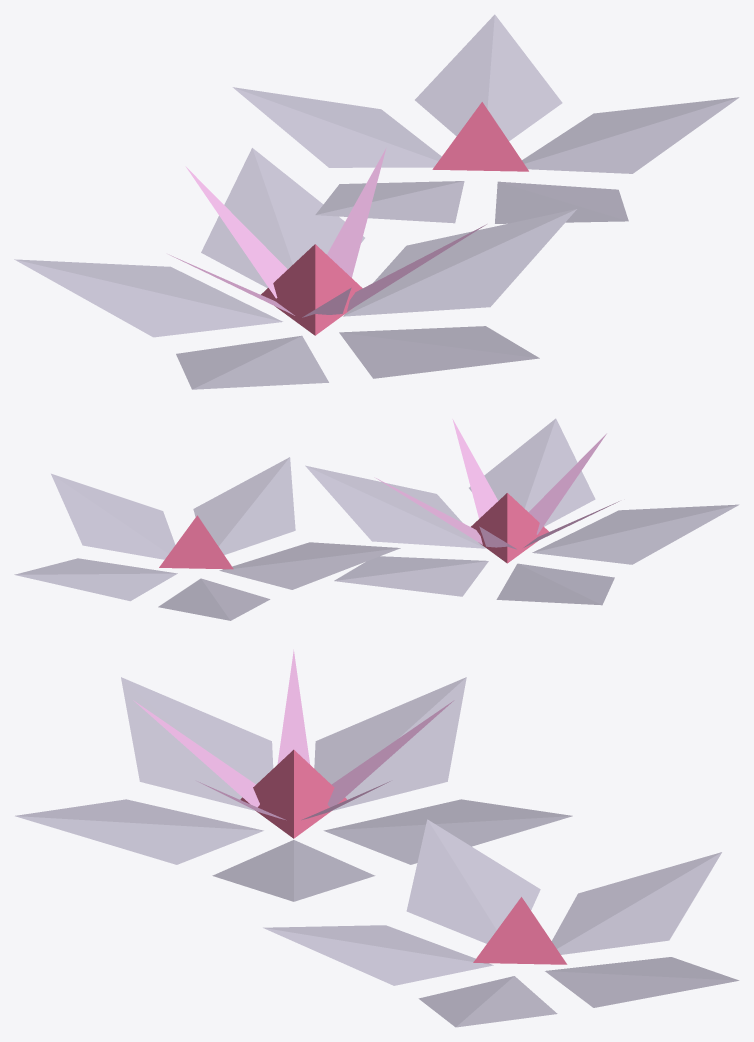
The model's file is plant_lotus_b.obj.
3 views of the same model, one above another, from view 1: azimuth 30°, elevation 25°; view 2: azimuth 150°, elevation 25°; view 3: azimuth 270°, elevation 25° (orthographic). The views are drawn at different scales.
Parts seen in each view (by area): view 1: plant_lotus_b_0, plant_lotus_b_5, plant_lotus_b_19, plant_lotus_b_24, plant_lotus_b_16, plant_lotus_b_3, plant_lotus_b_17, plant_lotus_b_8, plant_lotus_b_15, plant_lotus_b_1, plant_lotus_b_2, plant_lotus_b_4 (+13 smaller); view 2: plant_lotus_b_1, plant_lotus_b_6, plant_lotus_b_22, plant_lotus_b_25, plant_lotus_b_8, plant_lotus_b_20, plant_lotus_b_3, plant_lotus_b_15, plant_lotus_b_23, plant_lotus_b_0, plant_lotus_b_9, plant_lotus_b_24 (+13 smaller); view 3: plant_lotus_b_7, plant_lotus_b_4, plant_lotus_b_18, plant_lotus_b_21, plant_lotus_b_9, plant_lotus_b_5, plant_lotus_b_6, plant_lotus_b_23, plant_lotus_b_15, plant_lotus_b_2, plant_lotus_b_19, plant_lotus_b_20 (+13 smaller).
Part boxes in pixels (left/top/right/bottom): plant_lotus_b_0: left=343, top=209, right=576, bottom=316; plant_lotus_b_5: left=14, top=259, right=282, bottom=337; plant_lotus_b_19: left=233, top=87, right=438, bottom=167; plant_lotus_b_24: left=524, top=97, right=739, bottom=173; plant_lotus_b_16: left=487, top=14, right=562, bottom=141; plant_lotus_b_3: left=201, top=148, right=292, bottom=287; plant_lotus_b_17: left=415, top=15, right=494, bottom=136; plant_lotus_b_8: left=339, top=332, right=539, bottom=378; plant_lotus_b_15: left=261, top=244, right=362, bottom=335; plant_lotus_b_1: left=343, top=209, right=576, bottom=316; plant_lotus_b_2: left=252, top=148, right=364, bottom=264; plant_lotus_b_4: left=14, top=259, right=282, bottom=321; plant_lotus_b_1: left=305, top=465, right=484, bottom=548; plant_lotus_b_6: left=532, top=504, right=739, bottom=564; plant_lotus_b_22: left=218, top=457, right=295, bottom=554; plant_lotus_b_25: left=51, top=474, right=168, bottom=559; plant_lotus_b_8: left=524, top=419, right=595, bottom=526; plant_lotus_b_20: left=219, top=548, right=400, bottom=589; plant_lotus_b_3: left=334, top=561, right=488, bottom=596; plant_lotus_b_15: left=471, top=493, right=548, bottom=563; plant_lotus_b_23: left=193, top=457, right=289, bottom=546; plant_lotus_b_0: left=306, top=466, right=485, bottom=548; plant_lotus_b_9: left=469, top=418, right=555, bottom=508; plant_lotus_b_24: left=51, top=473, right=175, bottom=553; plant_lotus_b_7: left=121, top=677, right=255, bottom=810; plant_lotus_b_4: left=332, top=677, right=466, bottom=810; plant_lotus_b_18: left=557, top=852, right=721, bottom=954; plant_lotus_b_21: left=406, top=819, right=496, bottom=943; plant_lotus_b_9: left=15, top=816, right=263, bottom=864; plant_lotus_b_5: left=314, top=677, right=466, bottom=784; plant_lotus_b_6: left=121, top=677, right=273, bottom=784; plant_lotus_b_23: left=263, top=928, right=493, bottom=985; plant_lotus_b_15: left=240, top=749, right=346, bottom=838; plant_lotus_b_2: left=323, top=816, right=572, bottom=864; plant_lotus_b_19: left=551, top=852, right=721, bottom=948; plant_lotus_b_20: left=427, top=819, right=540, bottom=929.
Size of the model in its own units: 0.887 by 0.1315 by 0.797.
